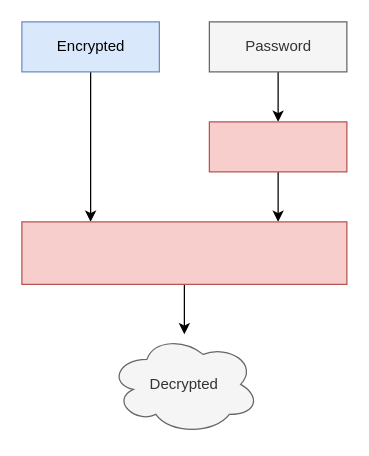
This 369x456 diagram has some shape labels left out. The shapes that lost their labels are listed below. From the top down, each one's centre as x and y in pixels, then its label:
(277,146): PBKDF2
(184,252): AES
